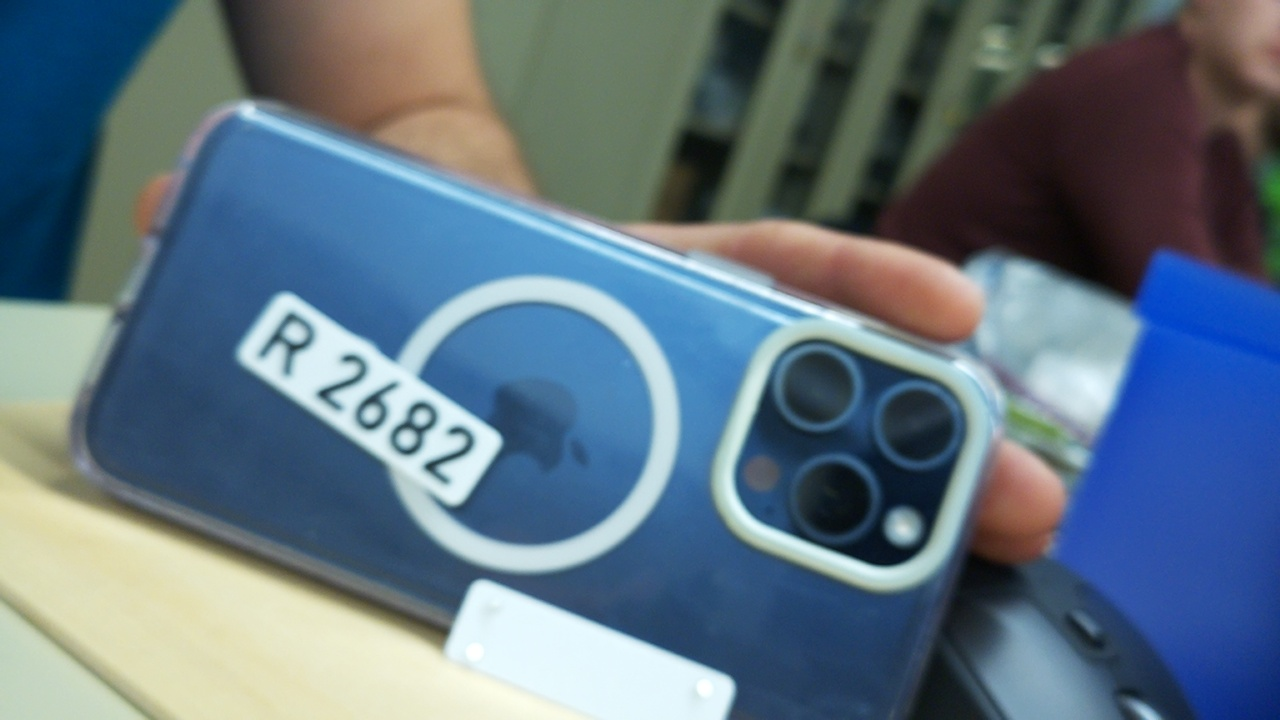license_plate: (230, 286, 506, 511)
